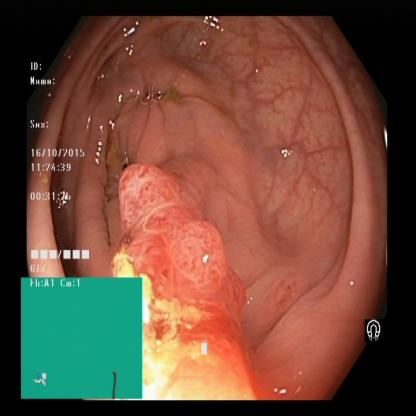Labels: (27, 60, 97, 276), (22, 279, 142, 398), (355, 300, 390, 352)
Polyps: (116, 169, 252, 282)
